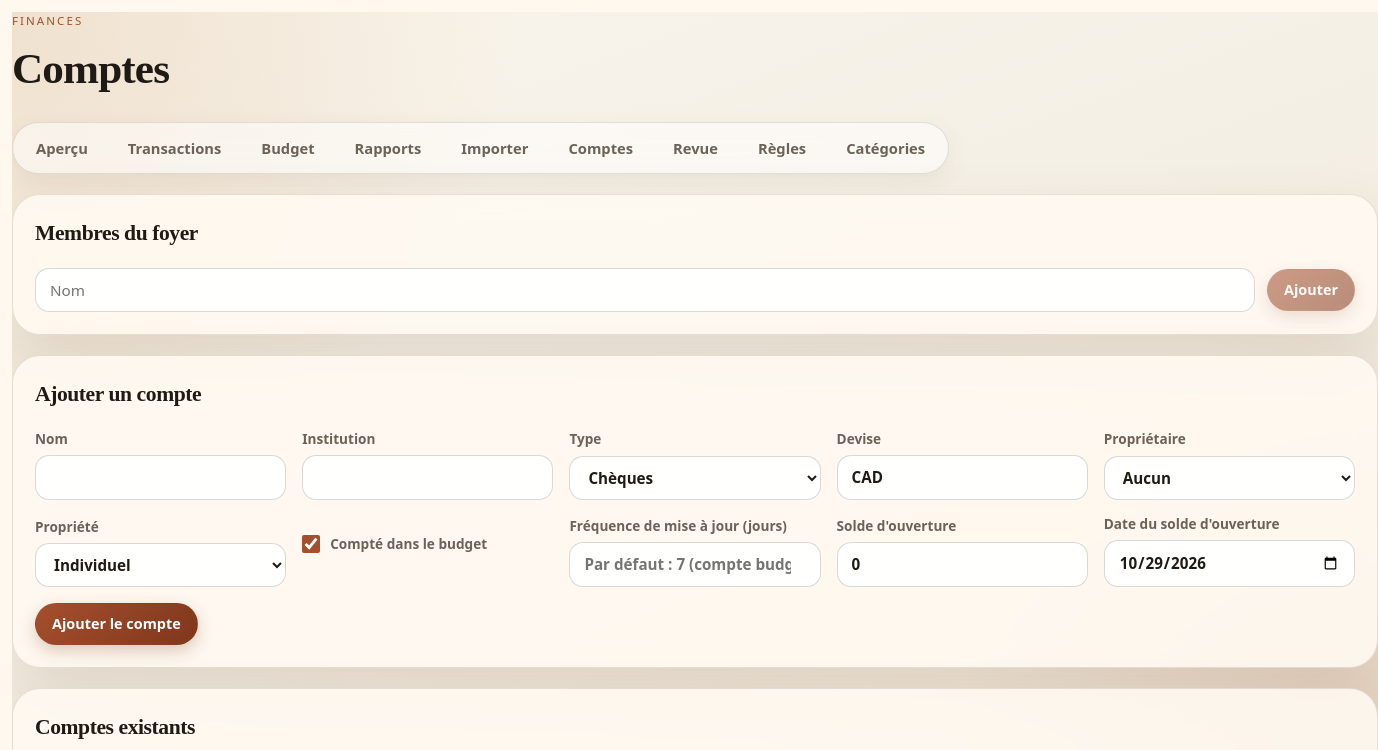
Scenario: FinanceAccountsPage › rejects an invalid currency before saving
This screenshot has width=1378, height=750.
In the field labelled "Nom" below "Institution": (161, 478) x1=35 y1=455 x2=286 y2=500, type "Compte"
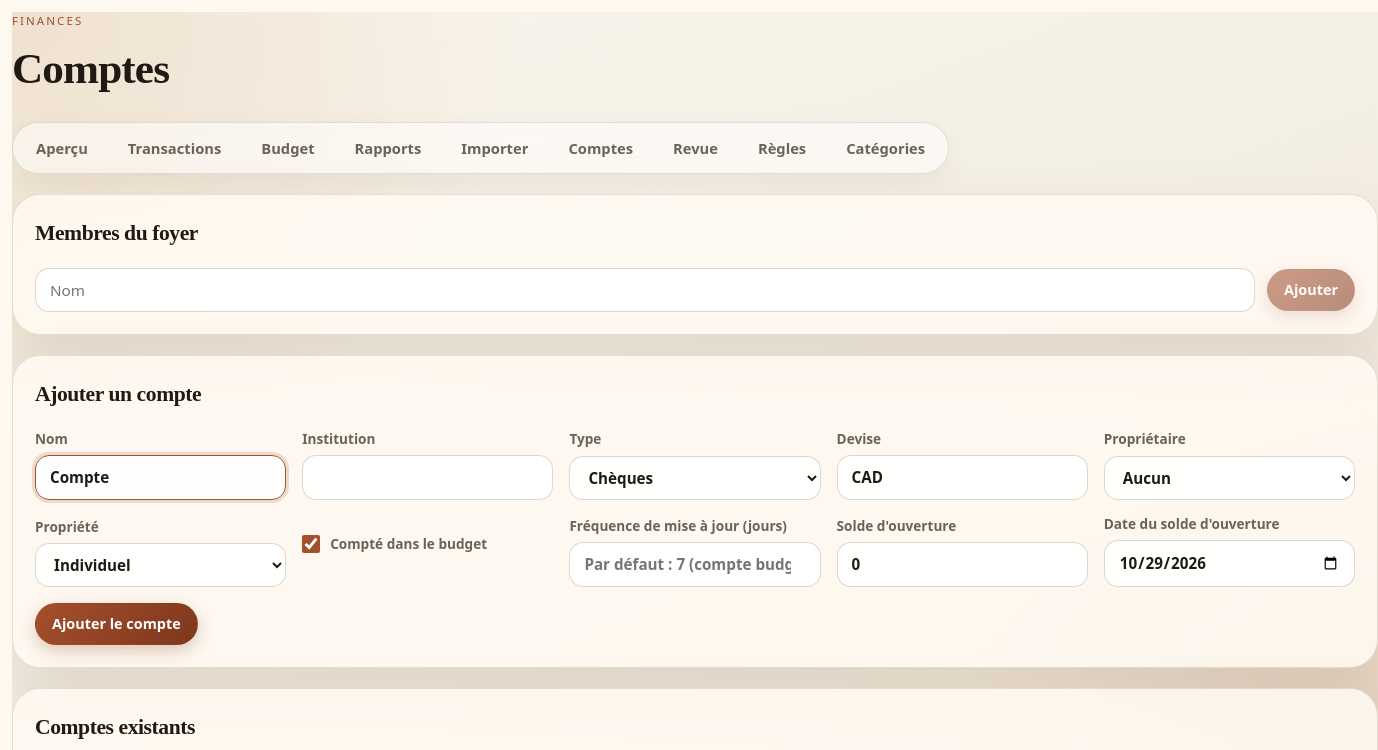
Replace the text in the field labelled "Devise" with "CA": (962, 478) x1=837 y1=455 x2=1088 y2=500
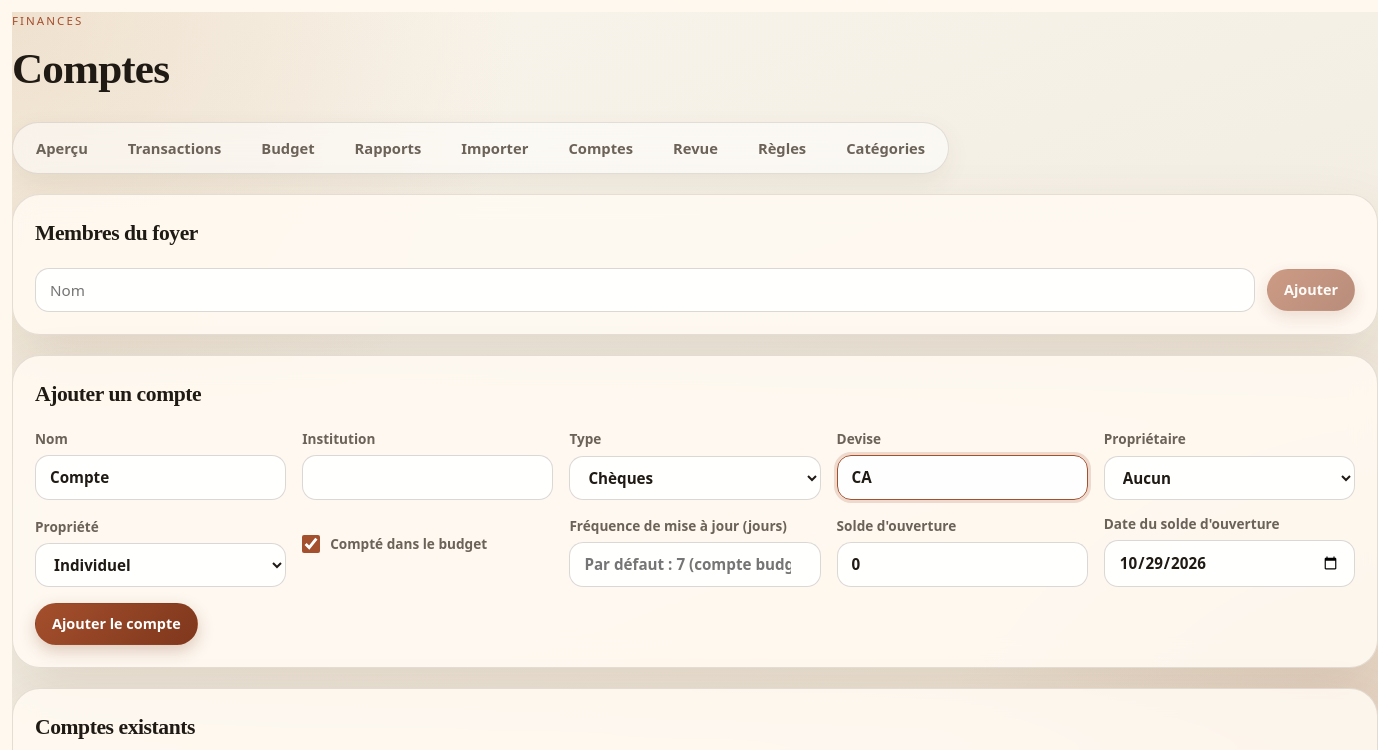
Click the button "Ajouter le compte": (116, 624) x1=35 y1=603 x2=198 y2=645
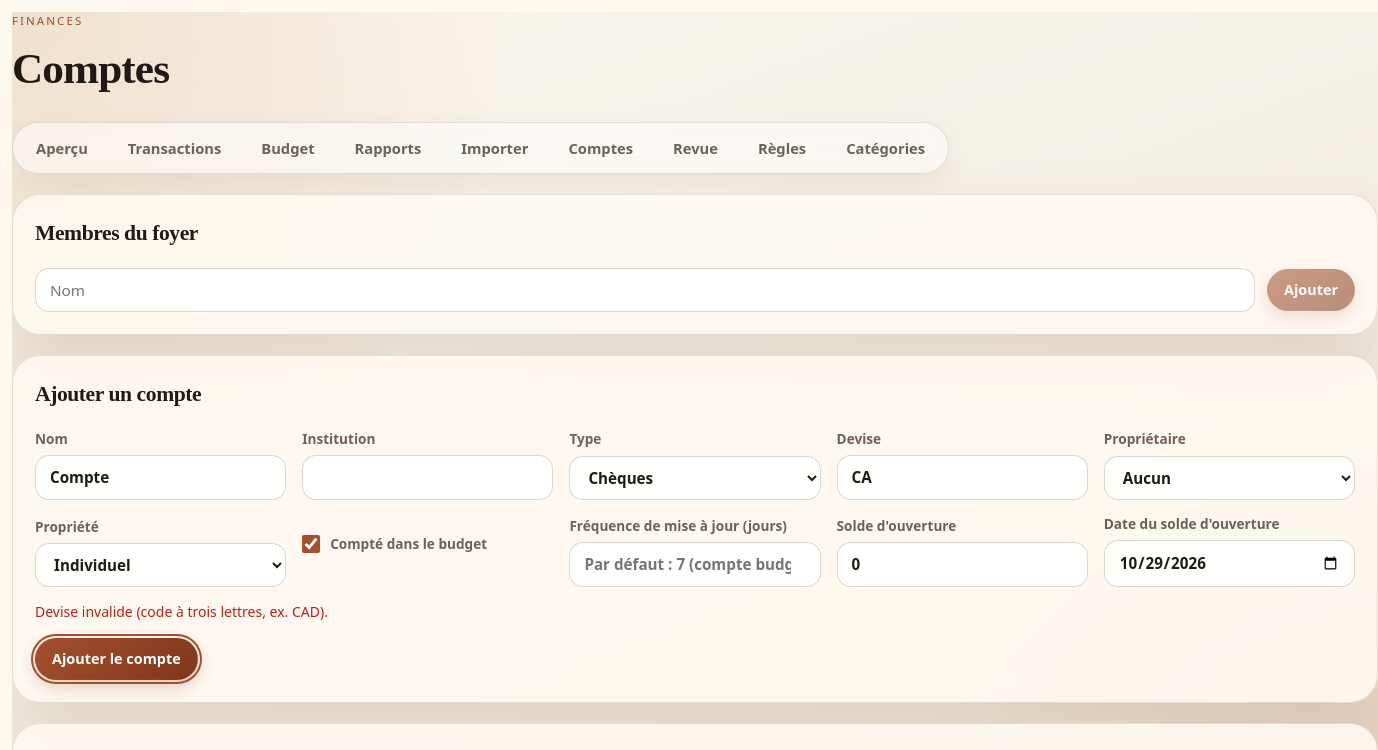
Check: the text "Devise invalide (code à trois lettres, ex. CAD)." is shown, box x1=35 y1=602 x2=328 y2=621
